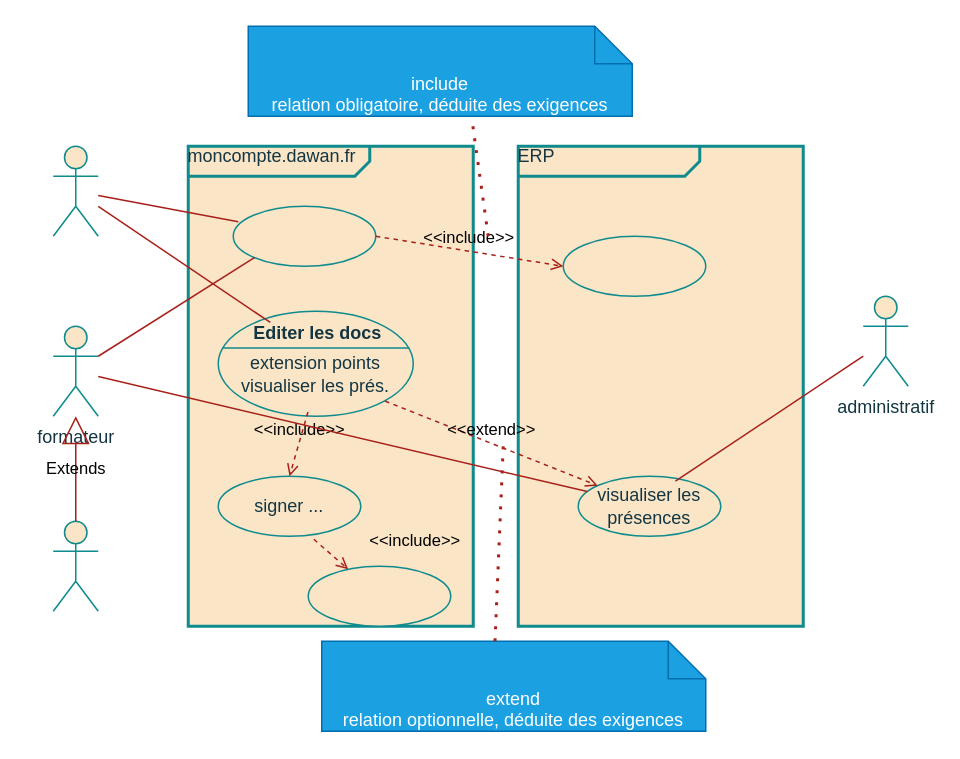
Image size: 960x759. Some labels were removed from this diagram. Here are the shapes that lost their labels. From the top down, the centre of each, then its label:
point 75,190: participant
point 304,235: s'authentifier
point 634,265: s'authentifier avec SSO
point 75,565: indépendant
point 379,595: créer signature
